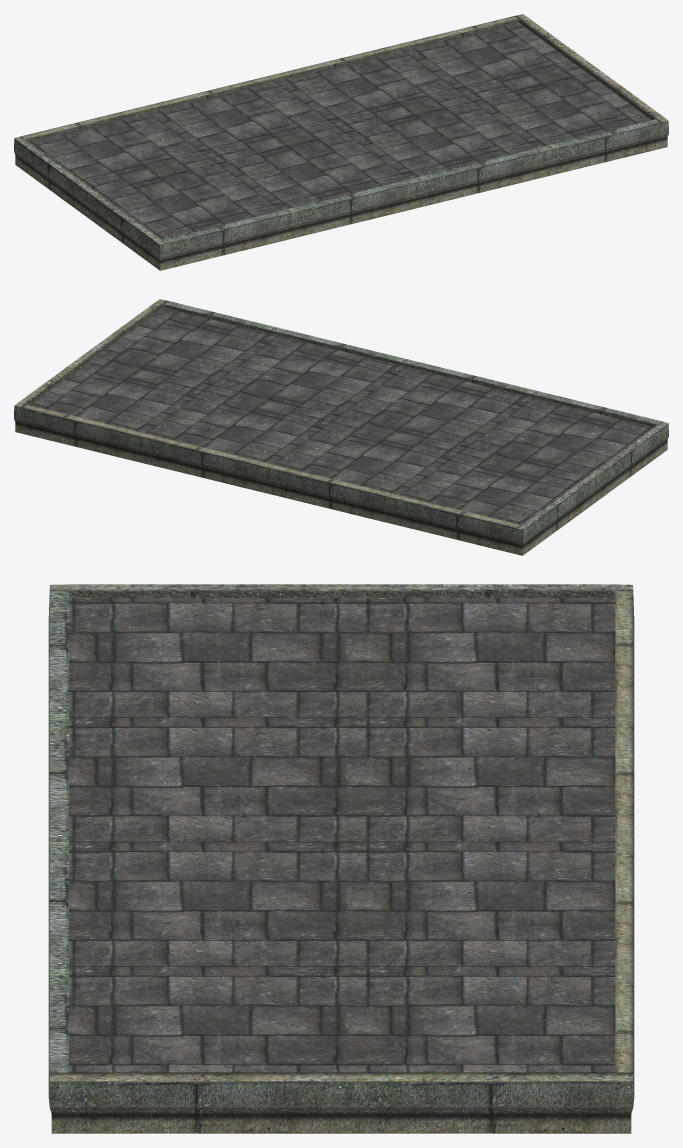
File: Platform.fbx
3 views of the same model, one above another, from view 1: azimuth 30°, elevation 25°; view 2: azimuth 150°, elevation 25°; view 3: azimuth 270°, elevation 25° (orthographic). The views are drawn at different scales.
Visible parts, largest first — view 1: Mesh Object; view 2: Mesh Object; view 3: Mesh Object.
Part boxes in pixels (<box>): Mesh Object: <box>14,14,668,270</box>; Mesh Object: <box>14,299,668,555</box>; Mesh Object: <box>48,584,634,1133</box>.
Bounding box in the file's own units: 8 × 0.4 × 3.98.
